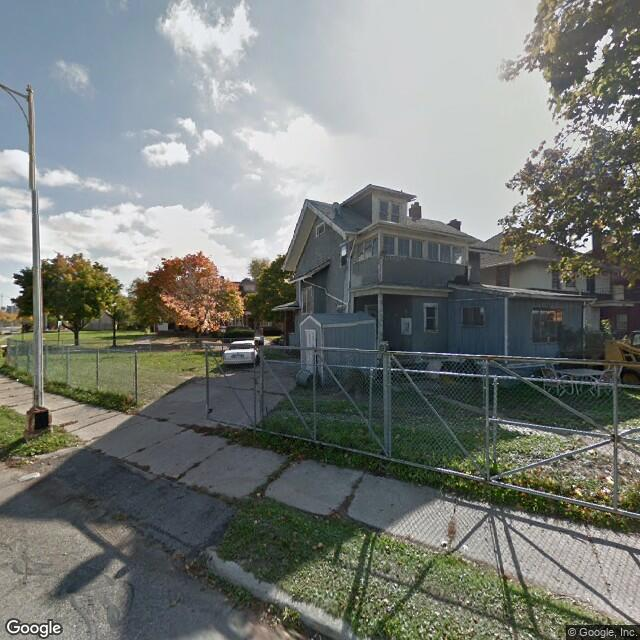litter: (562, 459, 611, 479), (263, 606, 279, 626), (30, 454, 38, 465), (461, 543, 470, 552), (254, 491, 262, 499), (438, 542, 447, 549)
